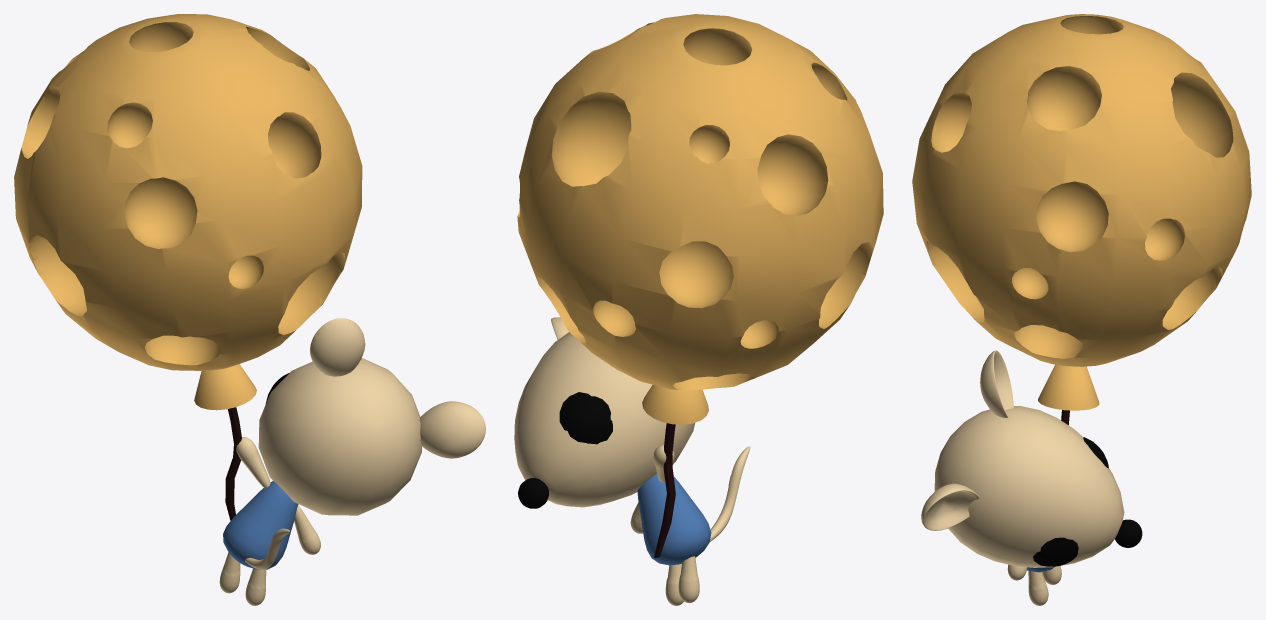
The model's file is rat1.fbx.
The picture shows the model from 3 angles, left to right: view 1: azimuth 30°, elevation 25°; view 2: azimuth 150°, elevation 25°; view 3: azimuth 270°, elevation 25°; orthographic projection. The views are drawn at different scales.
Visible parts, largest first — view 1: polySurface182; view 2: polySurface182; view 3: polySurface182.
Boxes of the visible parts, x1,y1,x2,y2 form: polySurface182: (14,14,485,605); polySurface182: (514,14,883,605); polySurface182: (912,14,1251,605).
Size of the model in its own units: 5.78 by 8.58 by 4.77.
